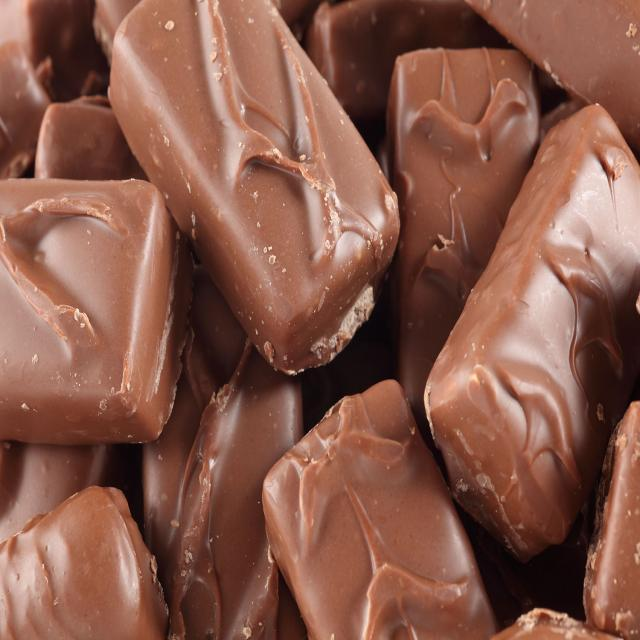Chocolate bar packaged: (107, 2, 403, 379), (420, 105, 640, 558), (379, 46, 535, 456), (260, 381, 498, 640), (1, 175, 194, 453), (1, 484, 173, 640)
